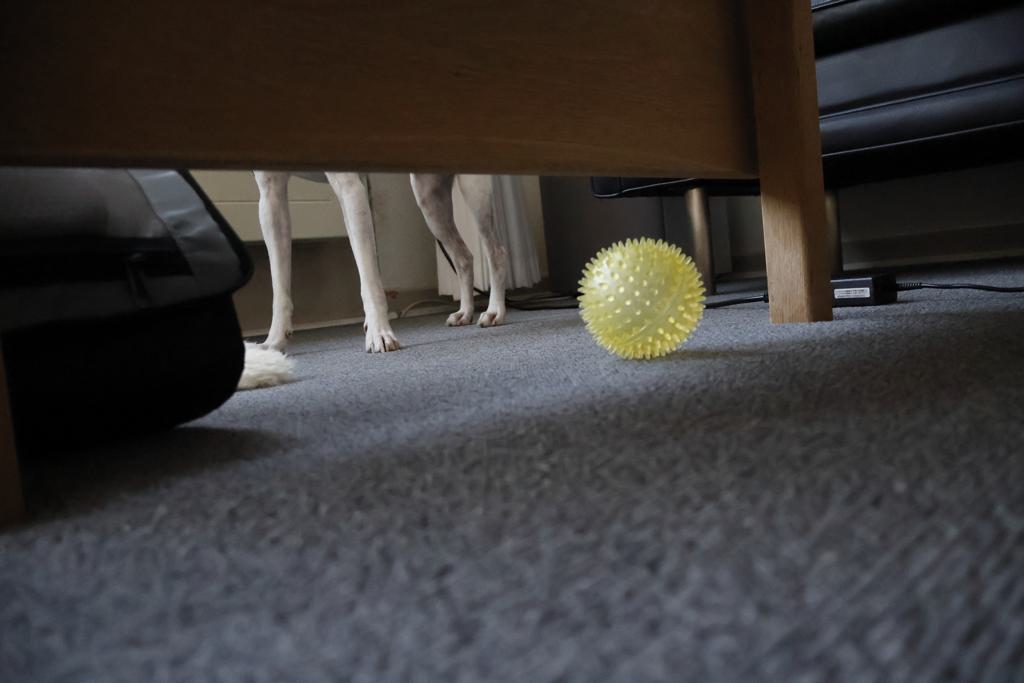Dog: (226, 135, 520, 361)
